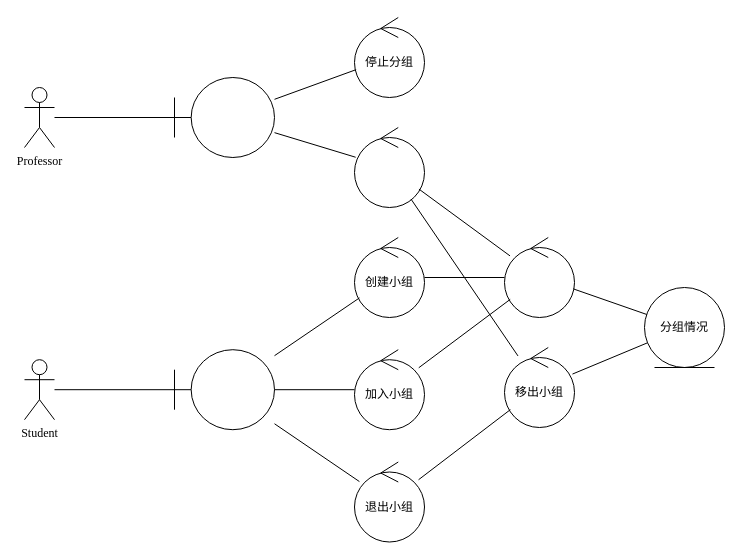
This 742x560 diagram has some shape labels left out. Here are the shapes that lost their labels. From the top down, the centre of each, then its label:
At point 224,117: "教授端界面".
At point 389,167: "调整分组".
At point 539,277: "移入小组".
At point 224,389: "学生端界面".
